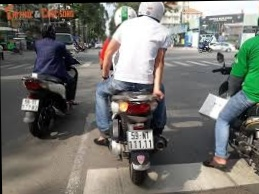Bien-so: (120, 131, 146, 154), (19, 94, 37, 109)
